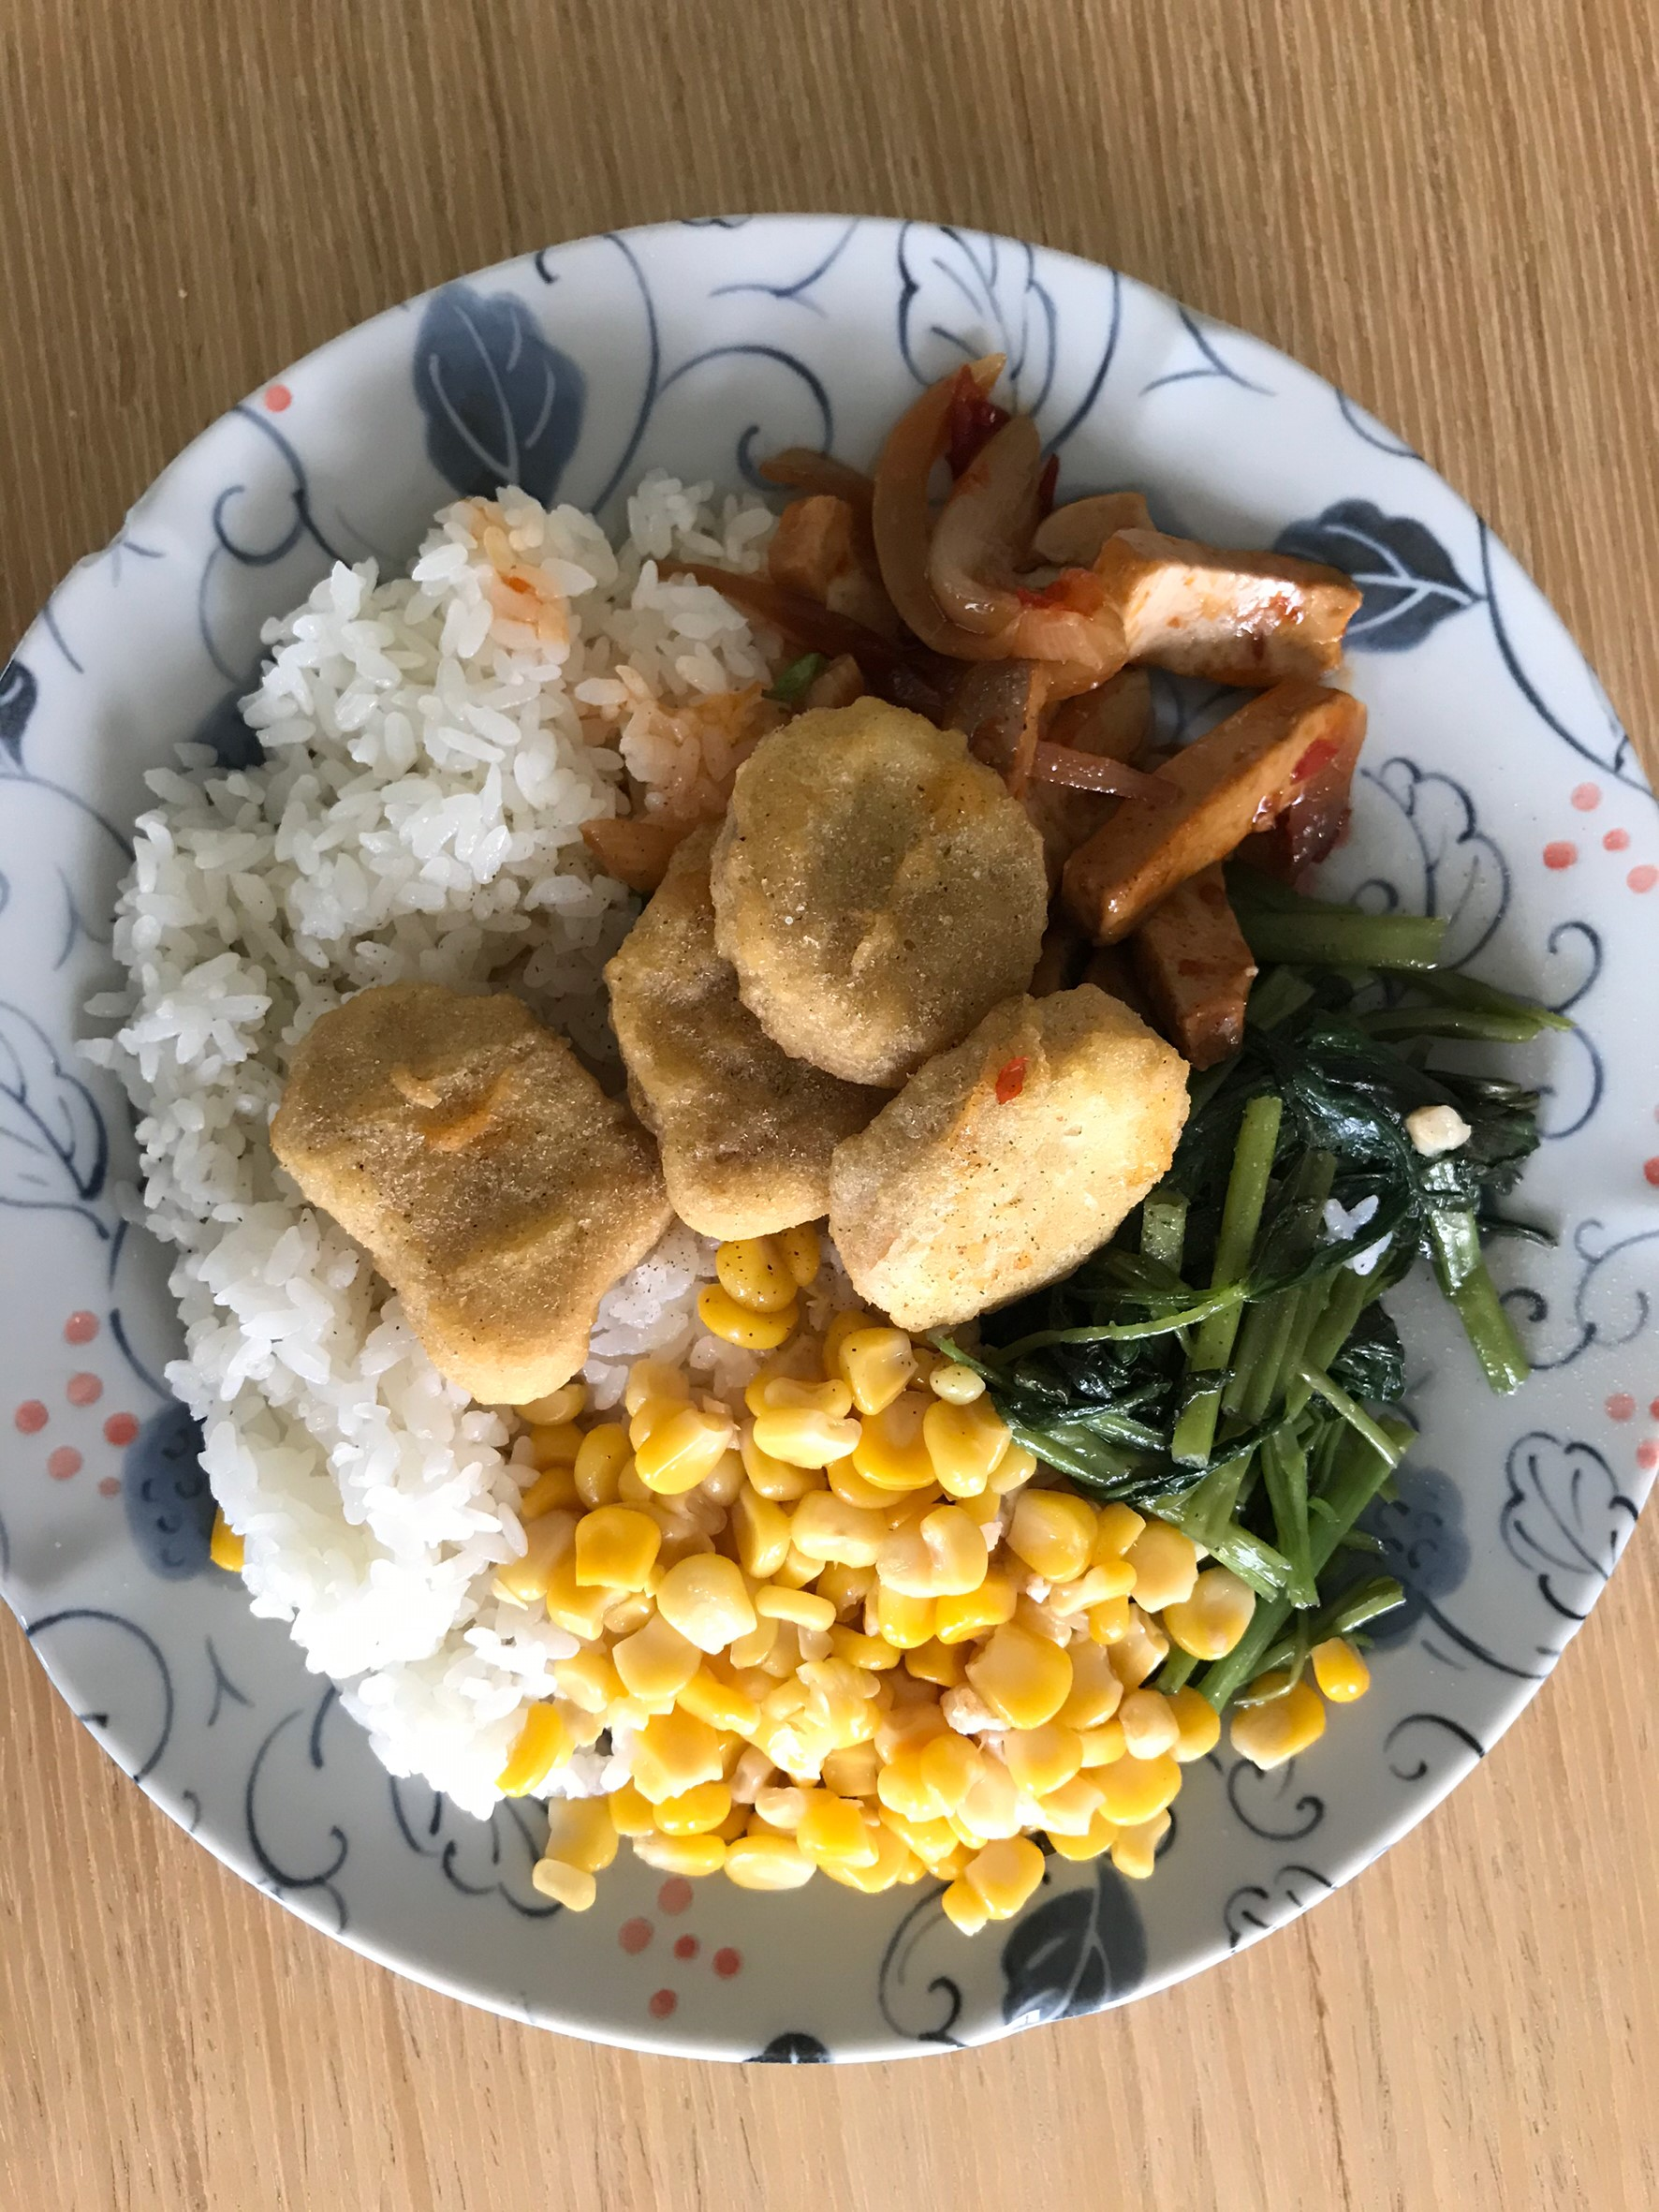chicken_nuggets: (617, 706, 1182, 1316), (274, 966, 694, 1401)
rice: (138, 500, 652, 969)
water_spinach: (1094, 898, 1528, 1659)
